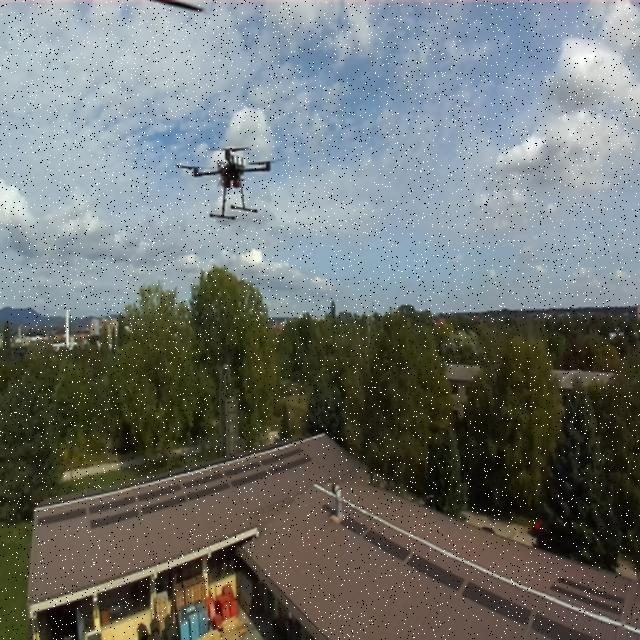UAV: (174, 137, 288, 222)
